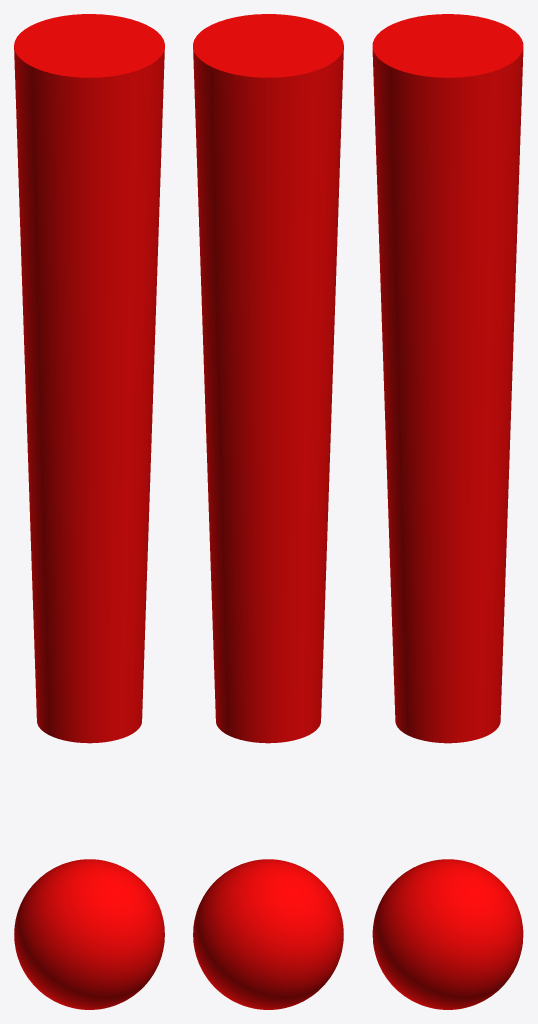
File: placeholder.gltf
3 views of the same model, side by side, from view 1: azimuth 30°, elevation 25°; view 2: azimuth 150°, elevation 25°; view 3: azimuth 270°, elevation 25° (orthographic).
Visible parts, largest first — view 1: mesh1_meshnode_1, mesh3_meshnode_3, mesh2_meshnode_2; view 2: mesh1_meshnode_1, mesh3_meshnode_3, mesh2_meshnode_2; view 3: mesh1_meshnode_1, mesh3_meshnode_3, mesh2_meshnode_2.
Part boxes in pixels (left/top/right/bottom): mesh1_meshnode_1: left=14, top=47, right=164, bottom=743; mesh3_meshnode_3: left=14, top=859, right=164, bottom=1009; mesh2_meshnode_2: left=14, top=14, right=164, bottom=77; mesh1_meshnode_1: left=193, top=47, right=343, bottom=743; mesh3_meshnode_3: left=193, top=859, right=343, bottom=1009; mesh2_meshnode_2: left=193, top=14, right=343, bottom=77; mesh1_meshnode_1: left=372, top=48, right=523, bottom=743; mesh3_meshnode_3: left=372, top=859, right=523, bottom=1009; mesh2_meshnode_2: left=372, top=14, right=523, bottom=77.
Size of the model in its own units: 0.2146 by 1.5 by 0.2145.
